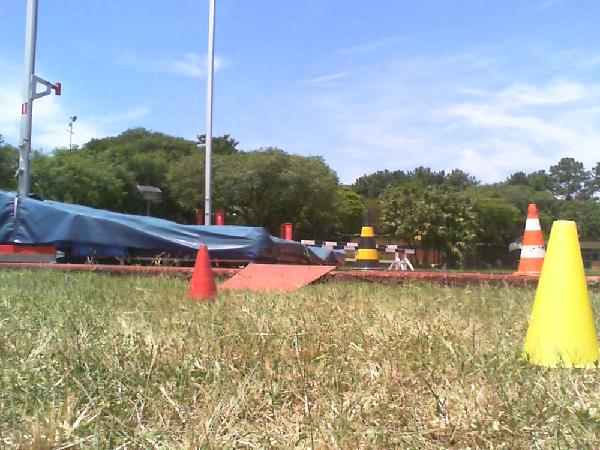0 cone: (520, 220, 600, 368), (512, 204, 545, 276), (348, 212, 384, 271), (185, 244, 218, 302)
